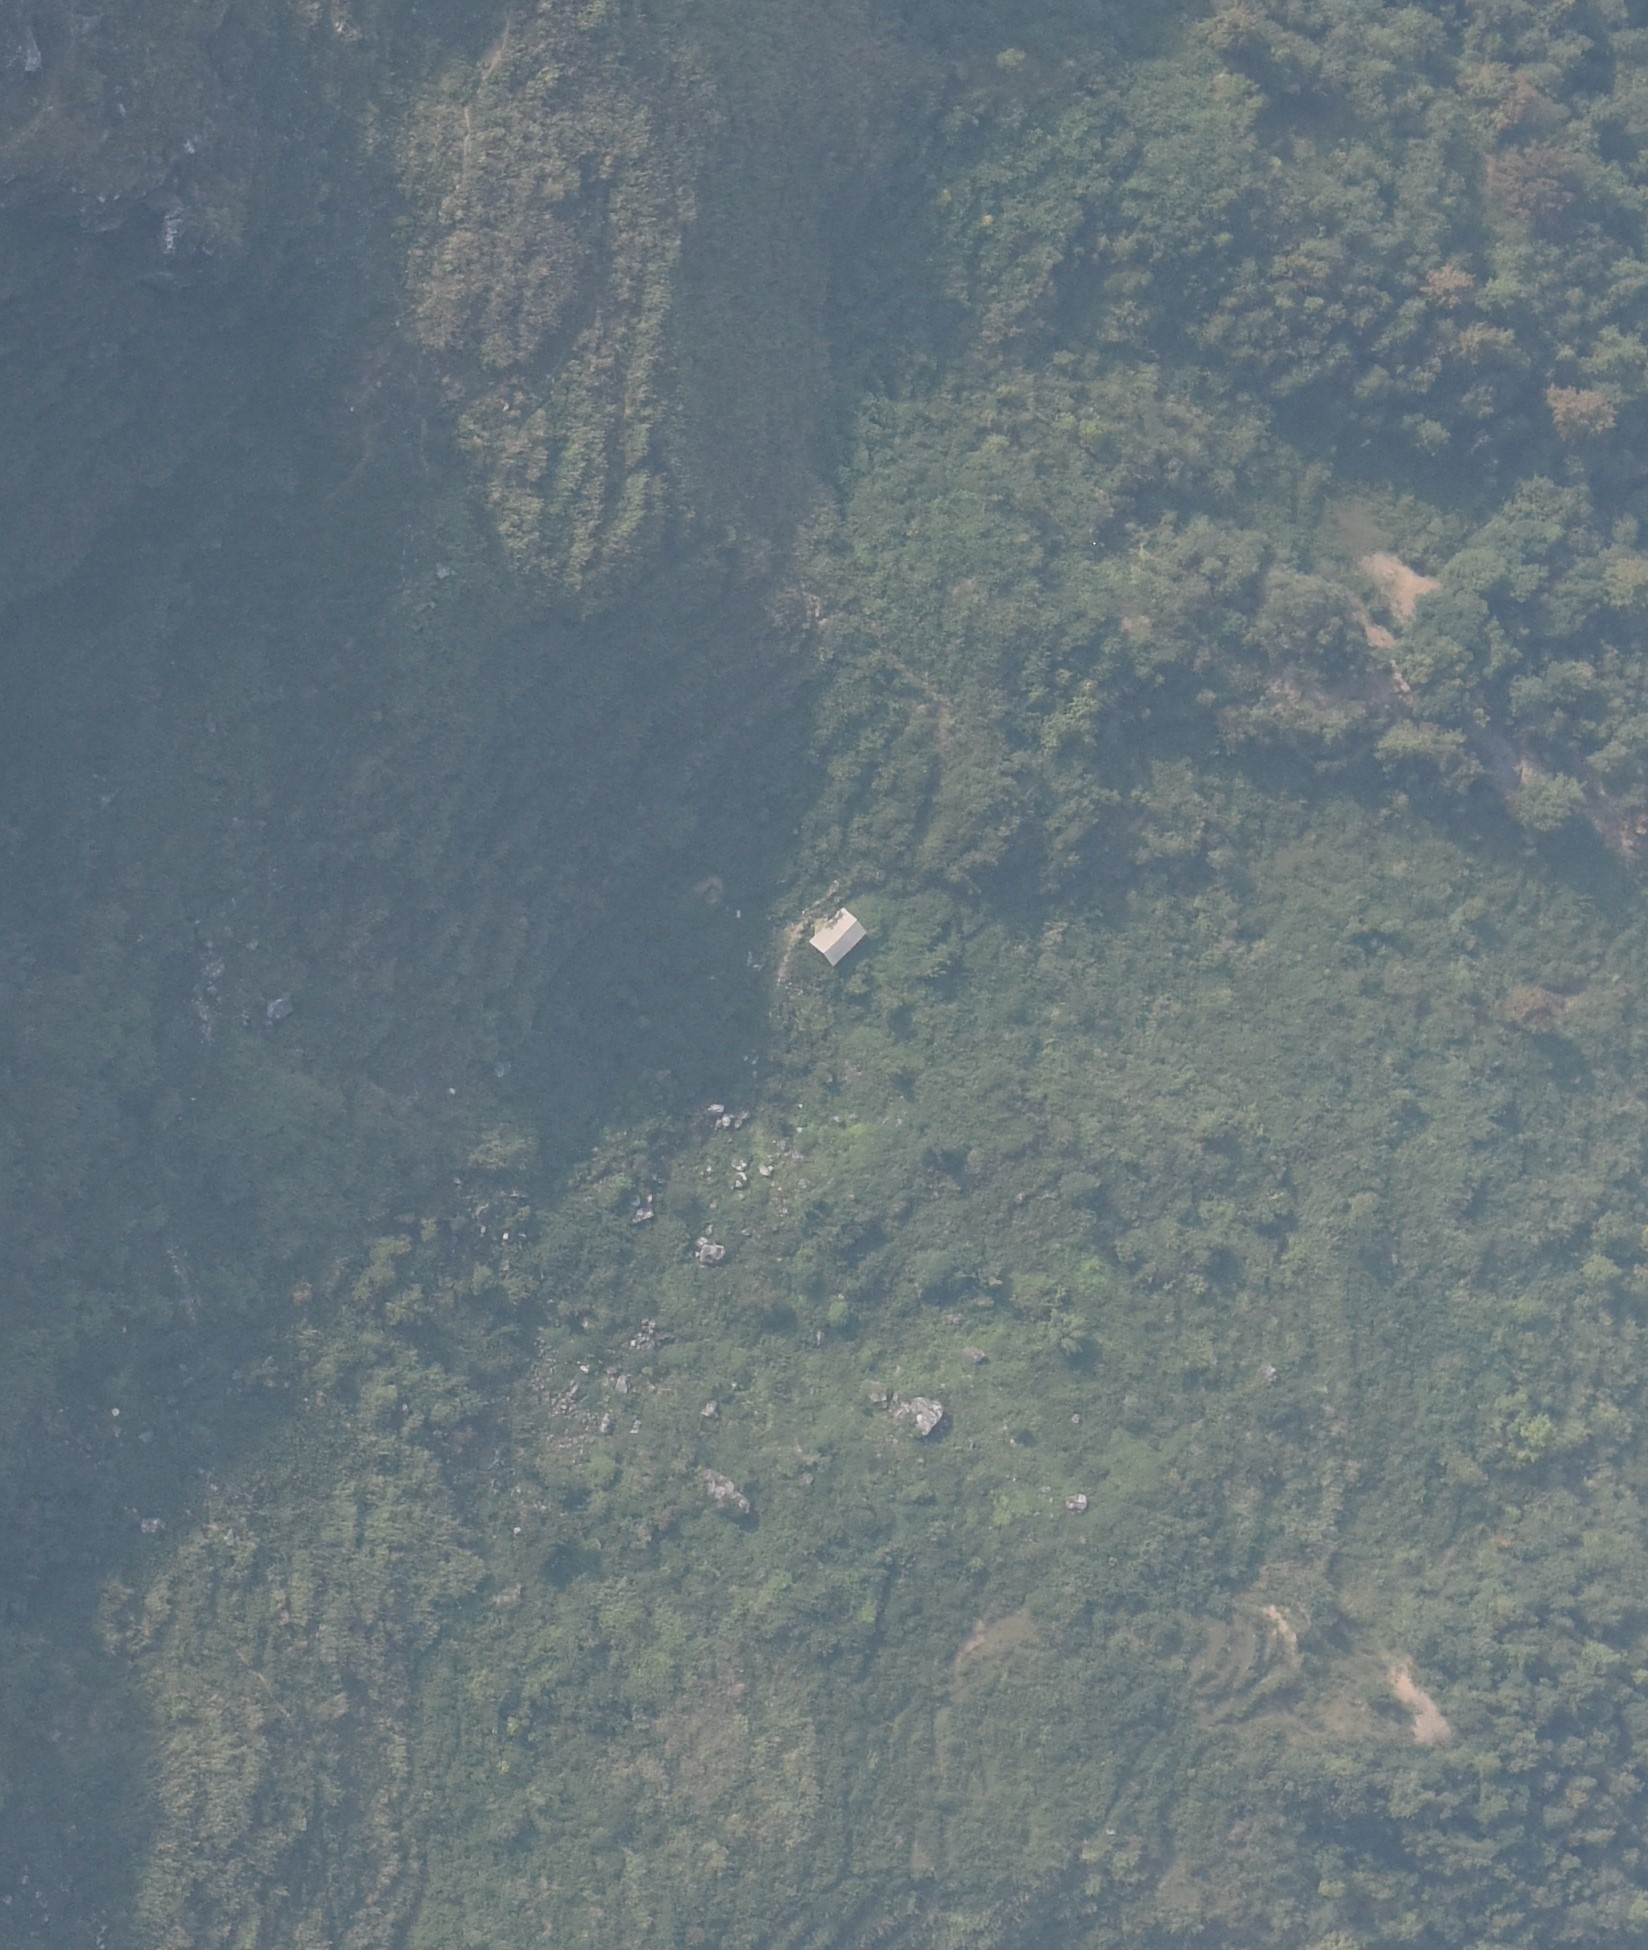prefabricated-house: (809, 909, 867, 968)
